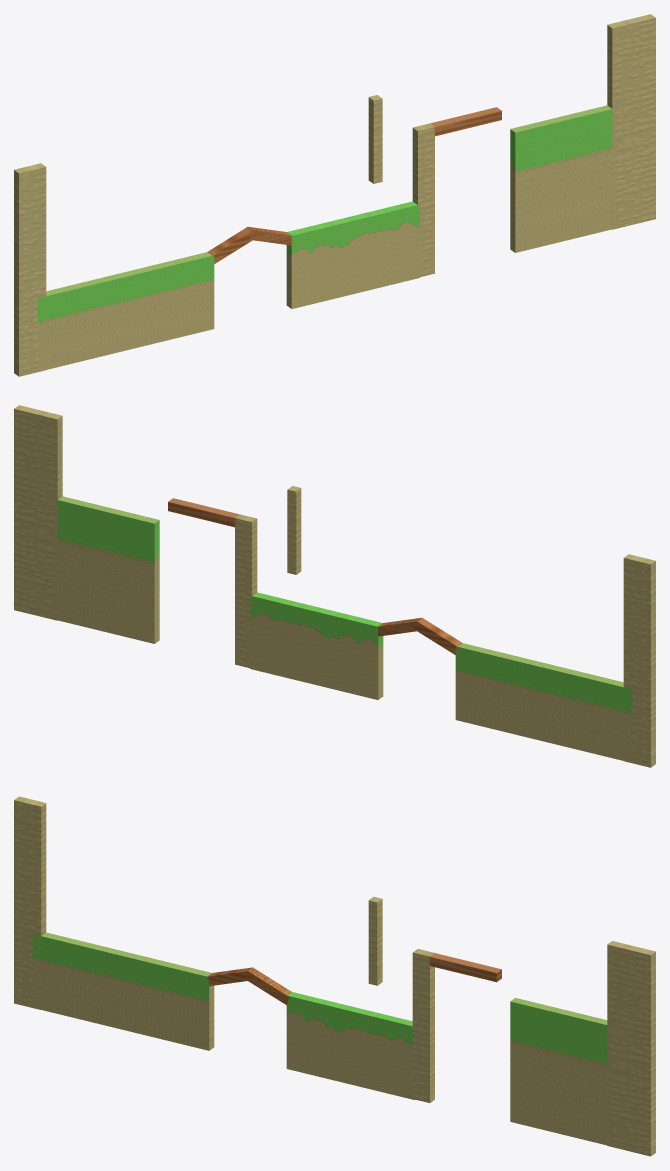
The model's file is stage1.fbx.
3 views of the same model, one above another, from view 1: azimuth 30°, elevation 25°; view 2: azimuth 150°, elevation 25°; view 3: azimuth 330°, elevation 25° (orthographic).
Parts seen in each view (by area): view 1: pCube1, pCube10, pCube13, pCube12, pCube3, pCube7, pCube8, pCube14, pCube4, pCube5; view 2: pCube1, pCube10, pCube13, pCube12, pCube3, pCube7, pCube8, pCube14, pCube4; view 3: pCube1, pCube10, pCube12, pCube13, pCube3, pCube7, pCube8, pCube14, pCube5, pCube4.
Boxes of the visible parts, bbox=[...] form: pCube1: bbox=[37, 252, 214, 371]; pCube10: bbox=[510, 105, 612, 252]; pCube13: bbox=[286, 201, 419, 308]; pCube12: bbox=[607, 14, 655, 229]; pCube3: bbox=[14, 163, 46, 376]; pCube7: bbox=[412, 123, 434, 277]; pCube8: bbox=[368, 95, 382, 183]; pCube14: bbox=[430, 107, 501, 136]; pCube4: bbox=[207, 227, 254, 263]; pCube5: bbox=[249, 227, 292, 245]; pCube1: bbox=[455, 643, 632, 762]; pCube10: bbox=[57, 496, 159, 643]; pCube13: bbox=[250, 592, 383, 699]; pCube12: bbox=[14, 405, 62, 620]; pCube3: bbox=[623, 554, 655, 767]; pCube7: bbox=[235, 514, 257, 668]; pCube8: bbox=[287, 486, 301, 574]; pCube14: bbox=[168, 498, 239, 527]; pCube4: bbox=[414, 618, 462, 654]; pCube1: bbox=[32, 932, 214, 1050]; pCube10: bbox=[510, 998, 607, 1145]; pCube12: bbox=[607, 941, 655, 1156]; pCube13: bbox=[286, 992, 415, 1099]; pCube3: bbox=[14, 796, 46, 1009]; pCube7: bbox=[412, 949, 434, 1102]; pCube8: bbox=[368, 896, 382, 985]; pCube14: bbox=[429, 953, 501, 982]; pCube5: bbox=[245, 967, 291, 1004]; pCube4: bbox=[206, 967, 252, 986].
Size of the model in its own units: 72 by 22 by 1.
